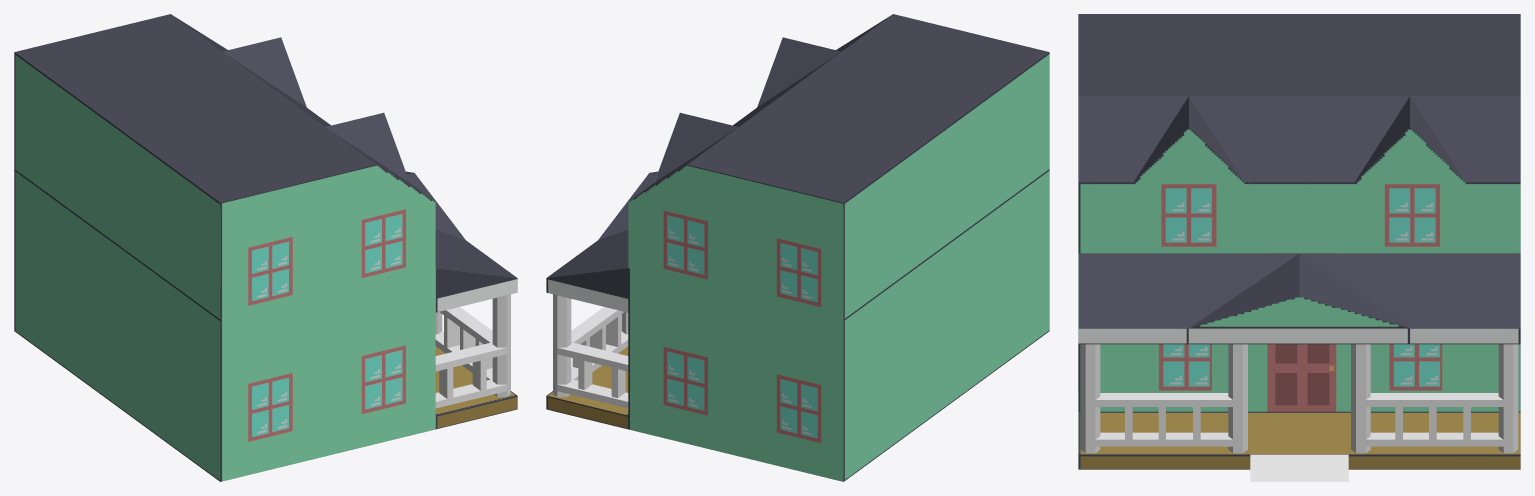
File: House0Ext.fbx
The picture shows the model from 3 angles, left to right: view 1: azimuth 30°, elevation 25°; view 2: azimuth 150°, elevation 25°; view 3: azimuth 270°, elevation 25°; orthographic projection. The views are drawn at different scales.
Visible parts, largest first — view 1: House, BannisterSm, BannisterLg, Column; view 2: House, BannisterSm.001, BannisterLg.001, Column.003; view 3: House, BannisterLg, BannisterLg.001, Cube, Column, Column.003, Column.001, Column.002.
Boxes of the visible parts, box(x1,y1,x2,y2) form: House: box(14, 14, 517, 481); BannisterSm: box(435, 342, 506, 408); BannisterLg: box(435, 307, 492, 380); Column: box(492, 294, 510, 397); House: box(546, 14, 1049, 481); BannisterSm.001: box(557, 342, 628, 408); BannisterLg.001: box(571, 307, 628, 380); Column.003: box(553, 294, 571, 397); House: box(1078, 14, 1520, 469); BannisterLg: box(1095, 393, 1232, 446); BannisterLg.001: box(1366, 393, 1503, 446); Cube: box(1250, 454, 1348, 481); Column: box(1080, 344, 1100, 453); Column.003: box(1498, 344, 1518, 453); Column.001: box(1228, 344, 1247, 453); Column.002: box(1351, 344, 1370, 453).
Size of the model in its own units: 809 by 673 by 900.
Materials: 4 (4 with a texture image).
